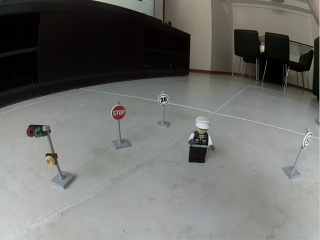Person: (187, 116, 216, 168)
Red Traffic Light: (25, 124, 76, 190)
Speed Limit 30: (157, 94, 170, 106)
Speed Limit 50: (303, 132, 314, 147)
Stop Sign: (109, 103, 127, 121)
